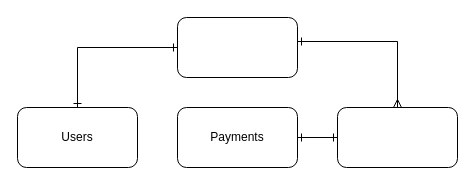
Image size: 475x185. Some labels were removed from this diagram. Each missing label, with the centre of its shape:
Drivers: the point at 237,47
Rides: the point at 397,137
